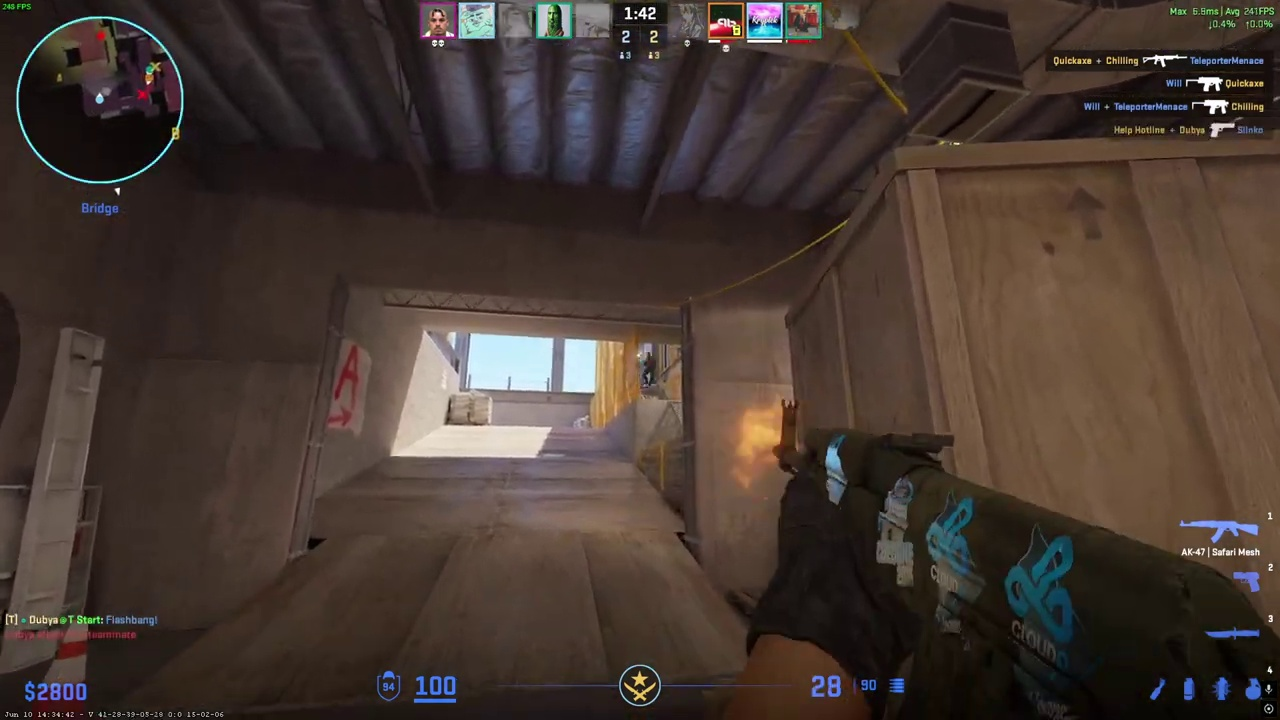CT: (640, 351, 657, 386)
